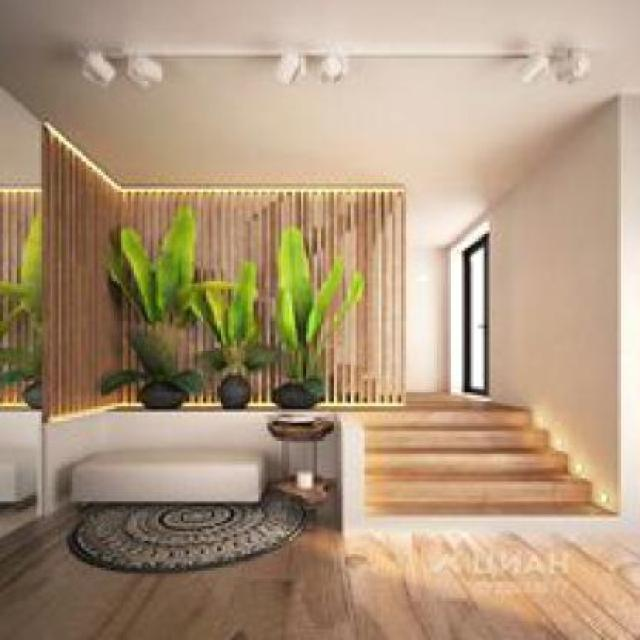stair: (320, 358, 636, 536)
